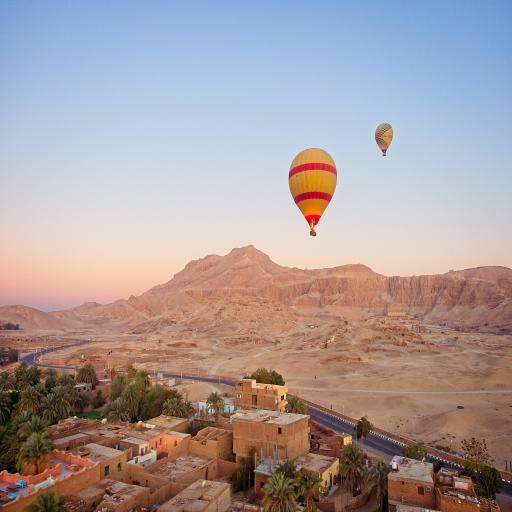hot air ballon: (288, 146, 338, 235), (374, 119, 394, 159)
